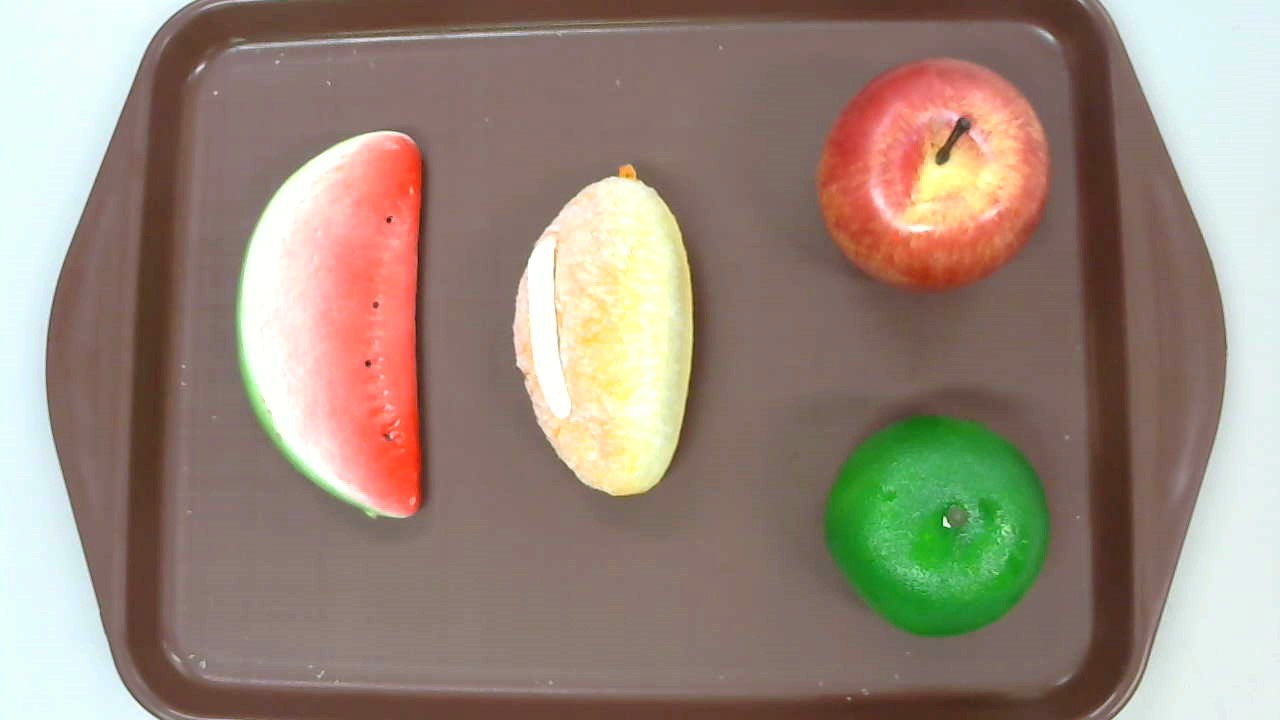coconut: (510, 164, 694, 497)
green orange: (823, 414, 1053, 637)
red apple: (816, 56, 1050, 294)
water melon: (235, 130, 422, 519)
